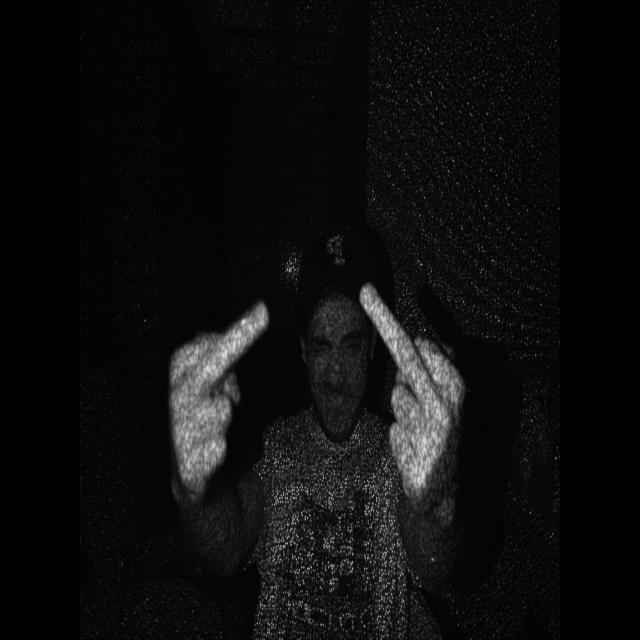FUCK YOU: (349, 272, 467, 510), (160, 272, 276, 492)
